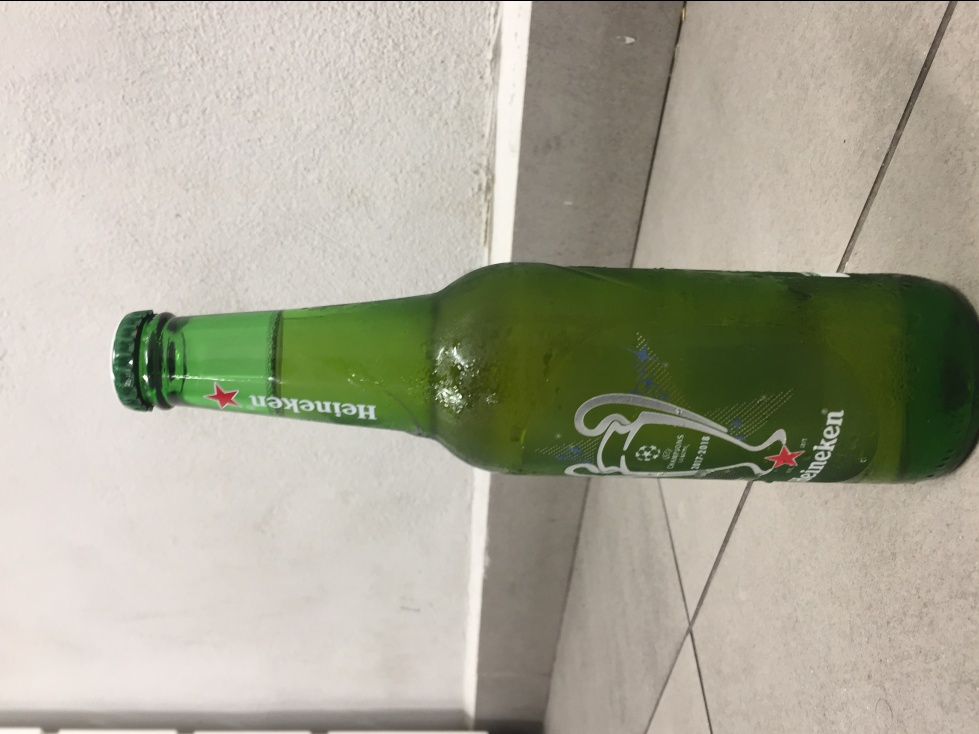heineken: (110, 260, 979, 487)
